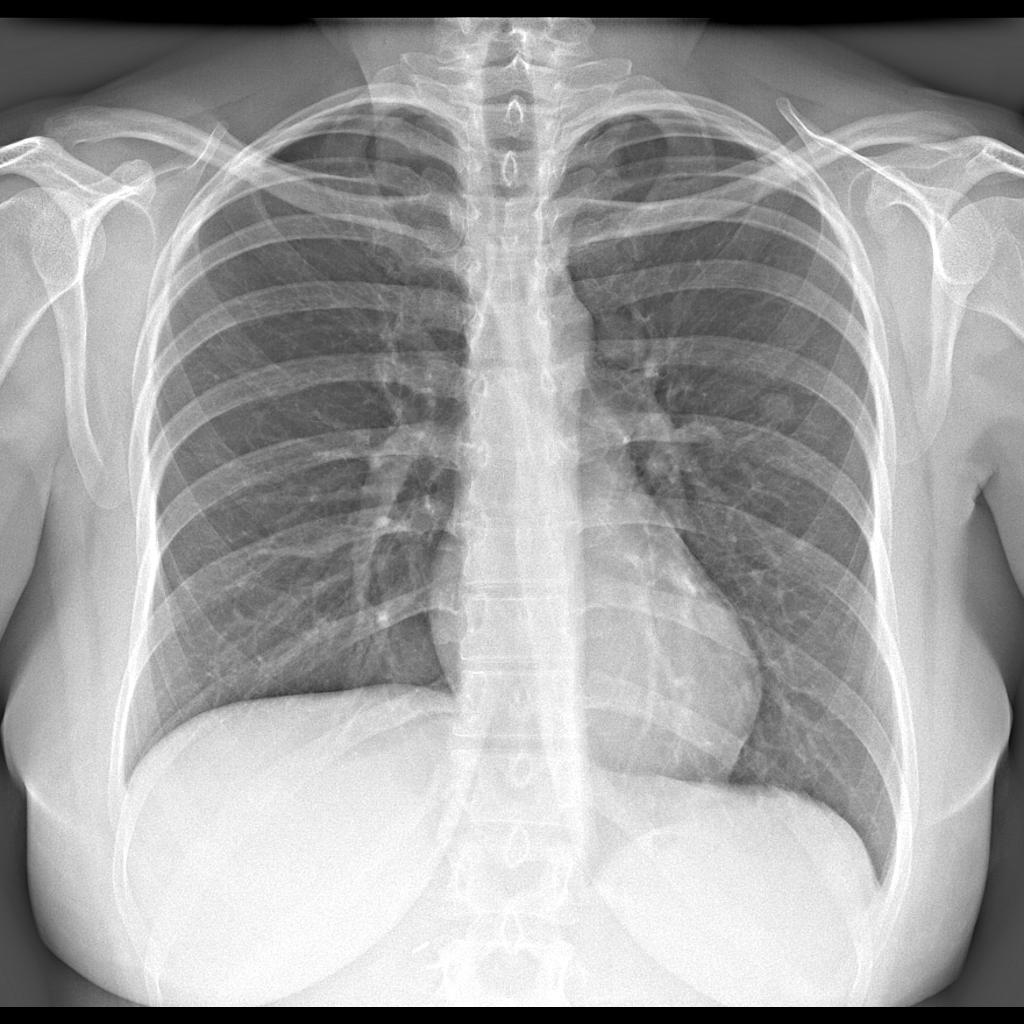Nodule: (756, 388, 798, 428)
